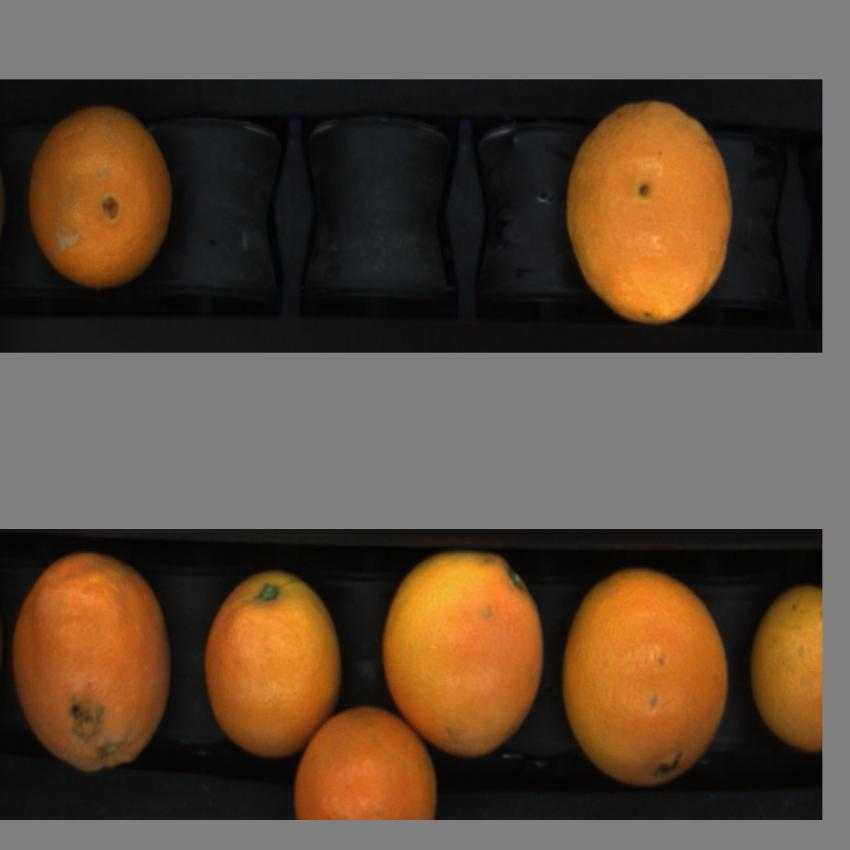Buen estado: (564, 92, 737, 329), (559, 567, 739, 791), (7, 548, 174, 777), (382, 549, 549, 757), (24, 97, 179, 295), (202, 566, 343, 762), (292, 700, 442, 818), (744, 577, 824, 758)
